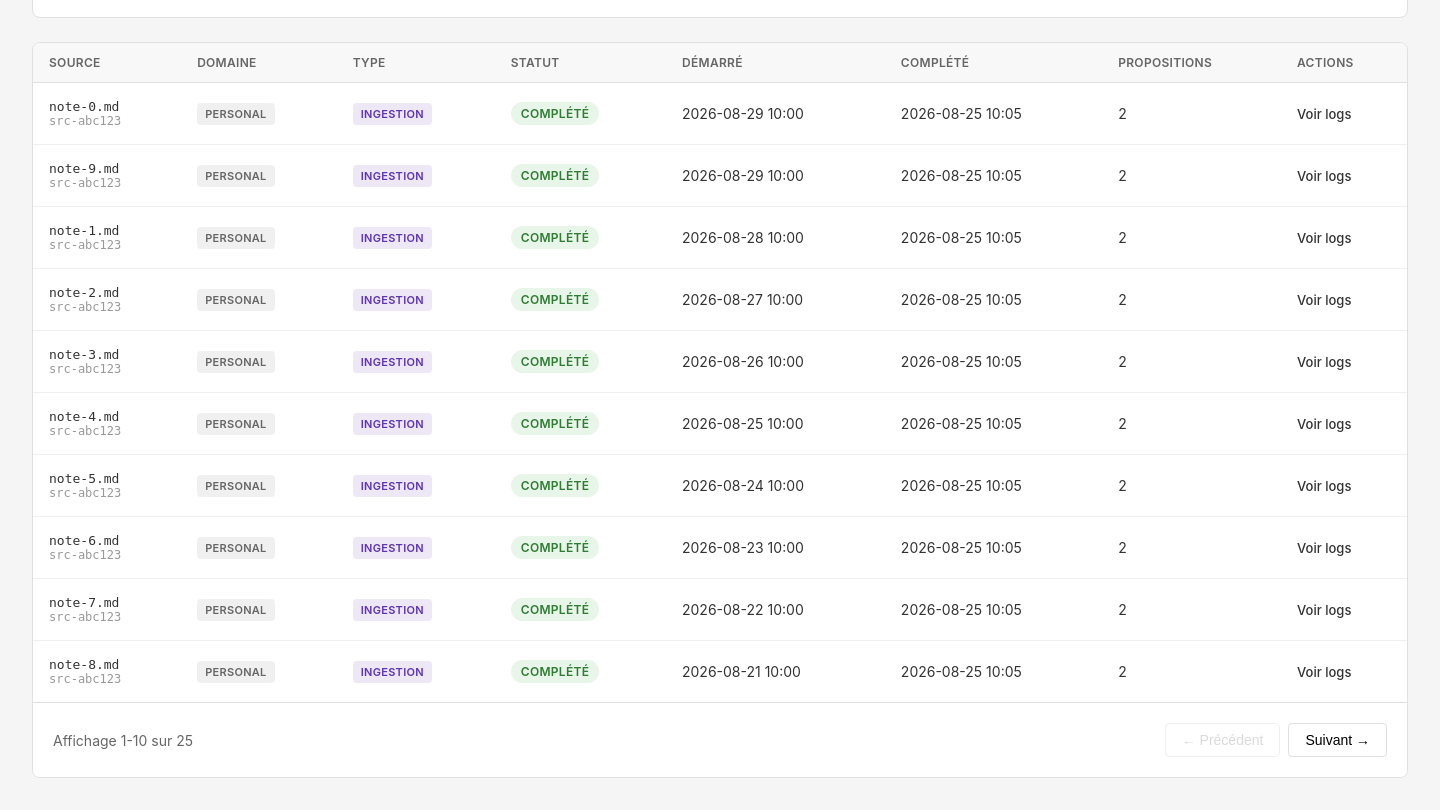
Scenario: IngestionLogs › AC5: pagination controls request the next page via limit/offset, and the count matches the merged total
(page scrolled)
Expected: the text "Affichage 1-10 sur 25" is shown, x1=53 y1=732 x2=193 y2=748
Expected: the button "← Précédent" is disabled, x1=1165 y1=723 x2=1280 y2=757
Click the button "Suivant →" at {"x": 1338, "y": 740}, box x1=1288 y1=723 x2=1387 y2=757
(page scrolled)
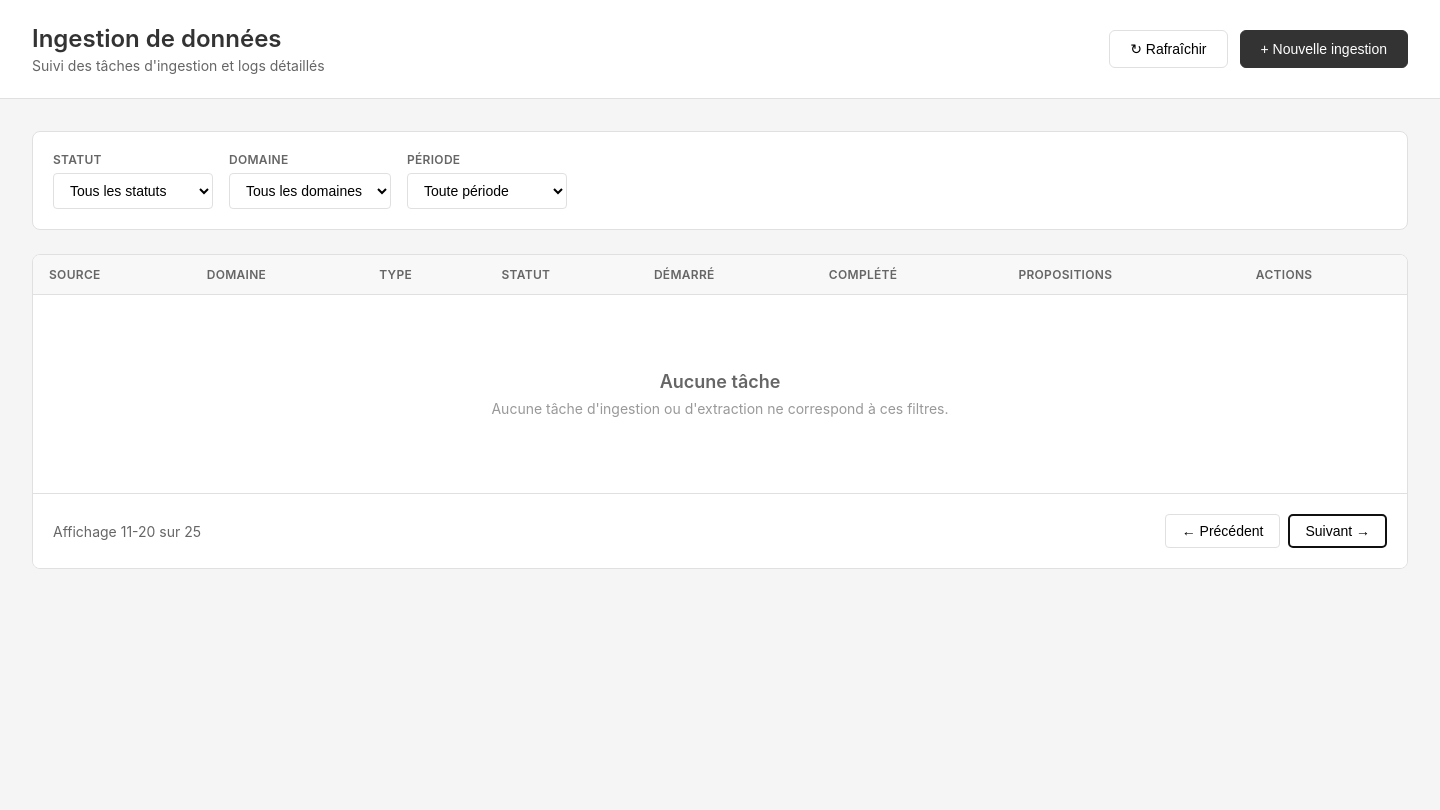
Expected: the text "Affichage 11-20 sur 25" is shown, x1=53 y1=522 x2=201 y2=540
